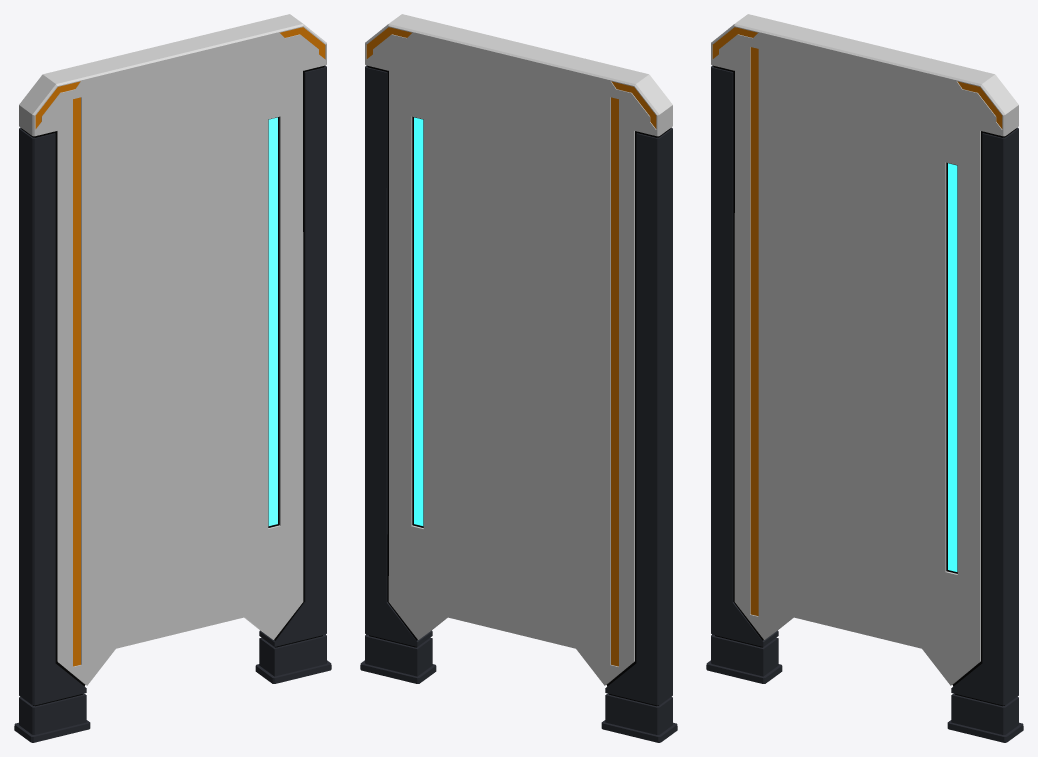
The model's file is SM_Urinal_Partition.fbx.
3 renders of one model, left to right at view 1: azimuth 30°, elevation 25°; view 2: azimuth 150°, elevation 25°; view 3: azimuth 330°, elevation 25°, orthographic.
Parts seen in each view (by area): view 1: SM_Urinal_Partition; view 2: SM_Urinal_Partition; view 3: SM_Urinal_Partition.
Part boxes in pixels (x1,y1,x2,y2): SM_Urinal_Partition: [14, 14, 331, 742]; SM_Urinal_Partition: [360, 14, 677, 742]; SM_Urinal_Partition: [706, 14, 1023, 742].
Bounding box in the file's own units: 91.75 × 190 × 9.75.
